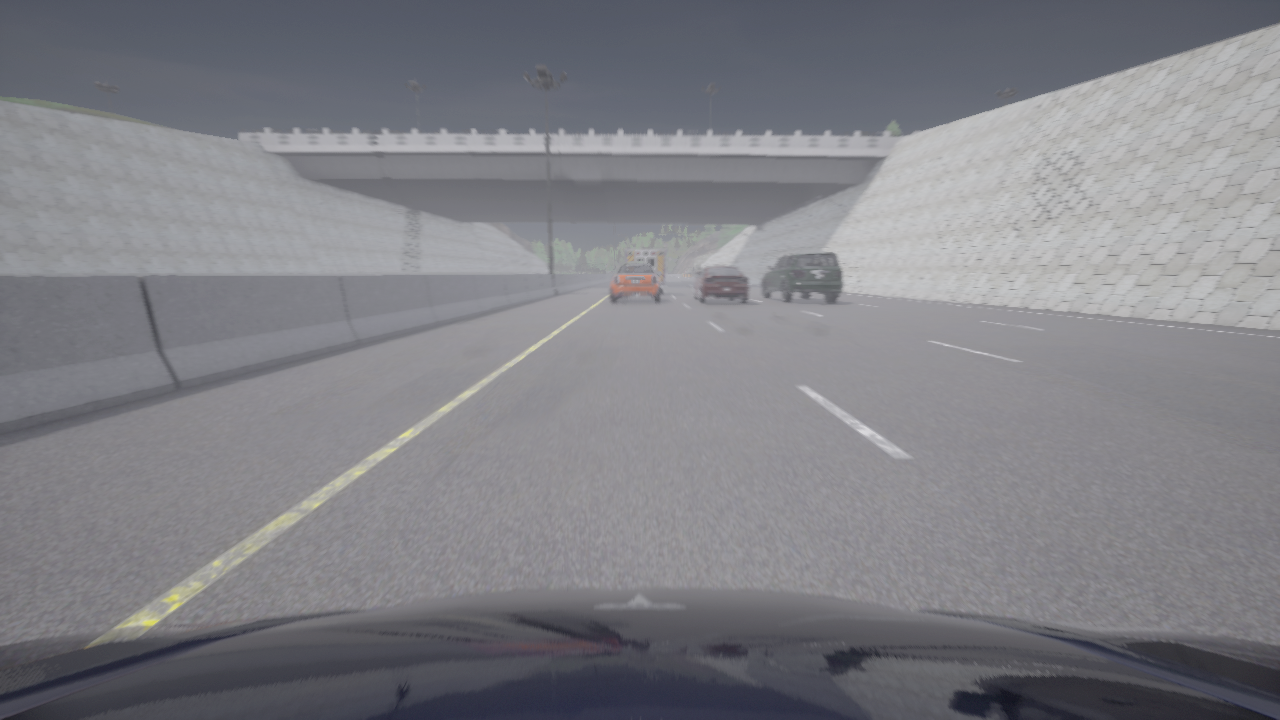cyclist: (0, 588, 1279, 719), (762, 252, 842, 302), (610, 262, 661, 302), (693, 266, 748, 303), (628, 252, 664, 285)
